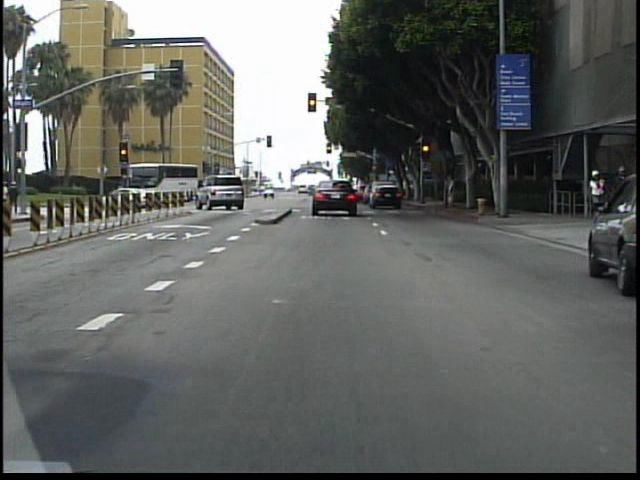person: (608, 163, 631, 221), (441, 168, 457, 211), (11, 177, 23, 213), (3, 177, 13, 215)
